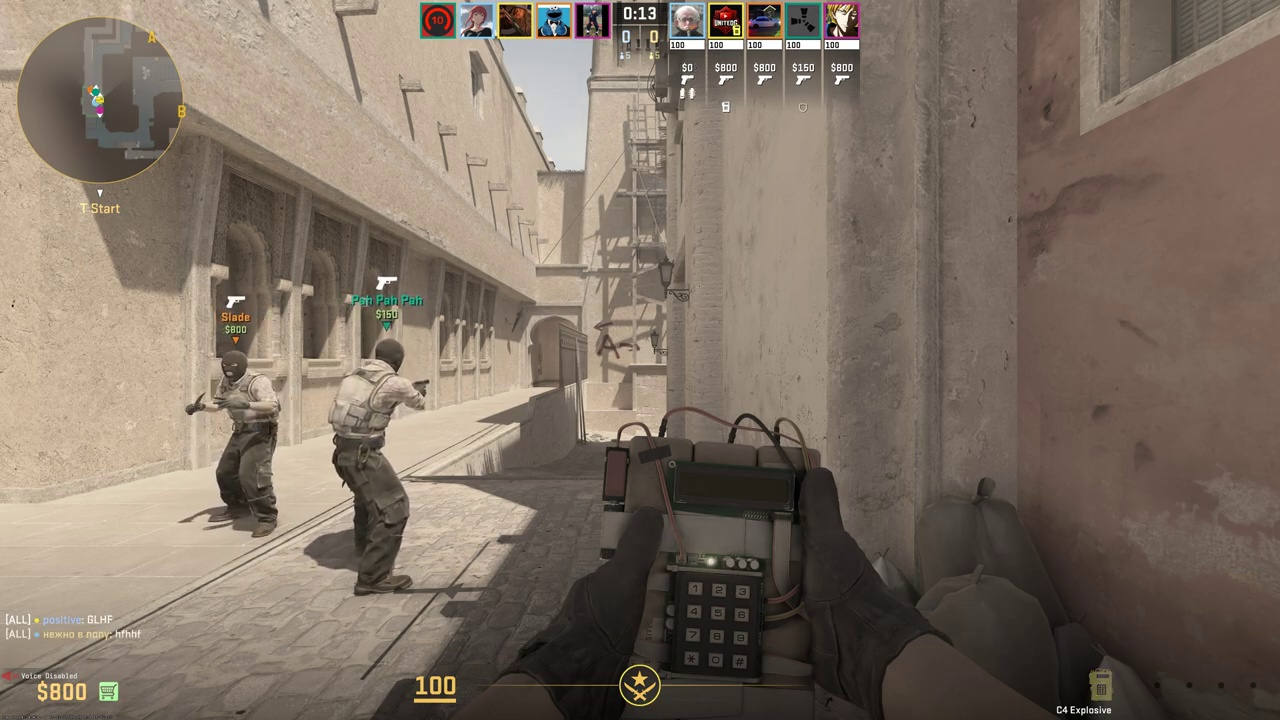Terrorist: (332, 338, 419, 597), (195, 350, 282, 538)
